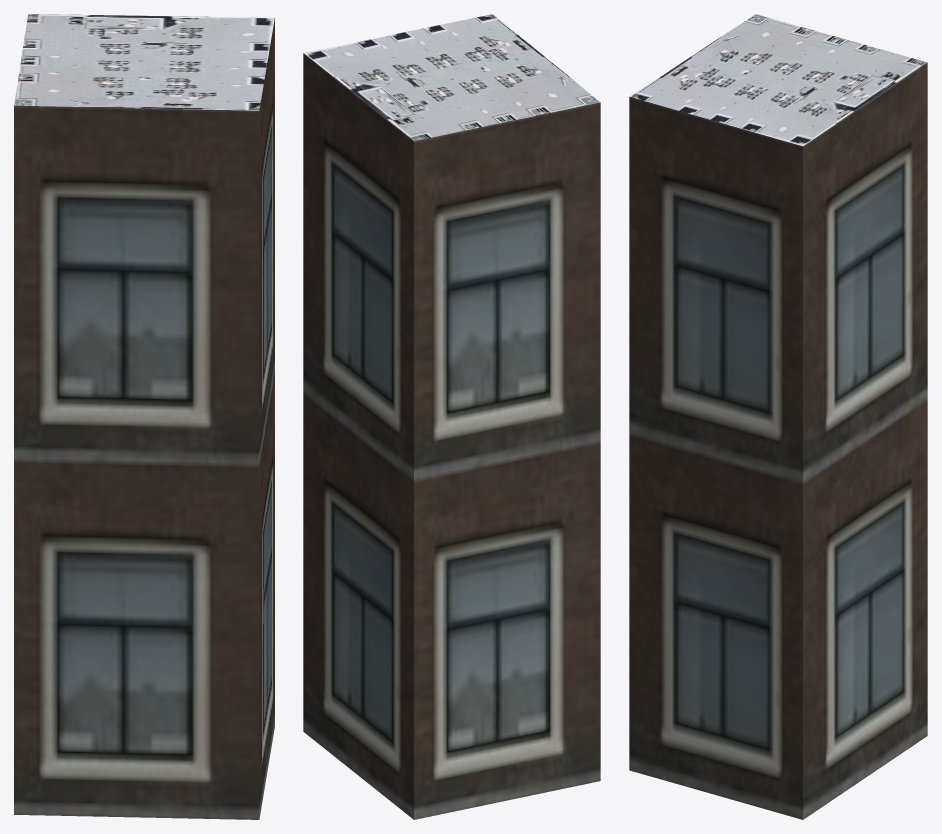
Rendered from ResTex__3619.fbx.
The picture shows the model from 3 angles, left to right: view 1: azimuth 30°, elevation 25°; view 2: azimuth 150°, elevation 25°; view 3: azimuth 270°, elevation 25°; orthographic projection. The views are drawn at different scales.
Parts seen in each view (by area): view 1: CityEngineMaterial_16_m, CityEngineMaterial_15_m; view 2: CityEngineMaterial_16_m, CityEngineMaterial_15_m; view 3: CityEngineMaterial_16_m, CityEngineMaterial_15_m.
Boxes of the visible parts, box(x1,y1,x2,y2) form: CityEngineMaterial_16_m: box(14, 18, 274, 819); CityEngineMaterial_15_m: box(14, 14, 274, 110); CityEngineMaterial_16_m: box(303, 53, 600, 819); CityEngineMaterial_15_m: box(304, 14, 599, 141); CityEngineMaterial_16_m: box(629, 62, 927, 819); CityEngineMaterial_15_m: box(630, 14, 926, 146).
Bounding box in the file's own units: 2.53 × 6 × 2.41.
2 materials, 2 textured.
